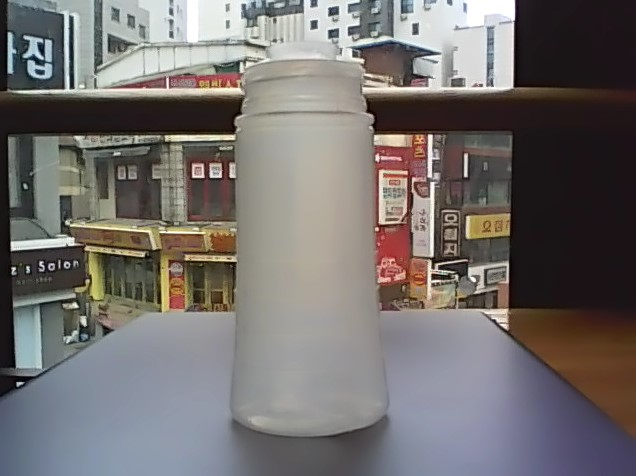Plastic: (225, 39, 393, 444)
